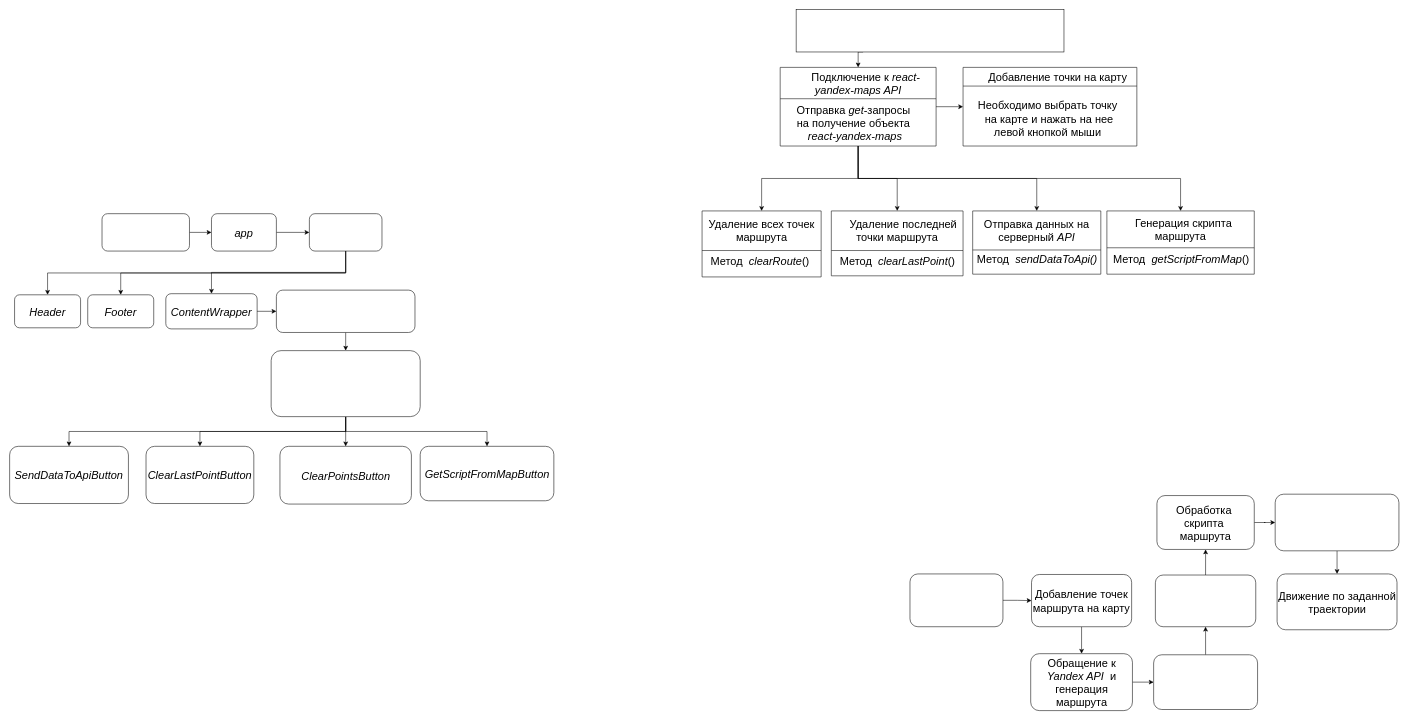
The diagram is 1409 pixels wide and 721 high, and some of its shapes have lost their labels. The shapes that lost their labels are listed below. From the top down, each one's centre as x and y in pixels, then its label:
At point (930, 30): "Web -приложение по формированию маршрута на спутниковой карте".
At point (145, 232): "index".
At point (345, 232): "Layout".
At point (345, 311): "MapComponent".
At point (345, 383): "RightSideMenuComponent".
At point (1337, 522): "Сравнение координат робота координатами маршрута".
At point (956, 600): "Запуск web- приложения".
At point (1205, 600): "Отправка скрипта на API колесного робота".
At point (1205, 682): "Формирование скрипта маршрута".
